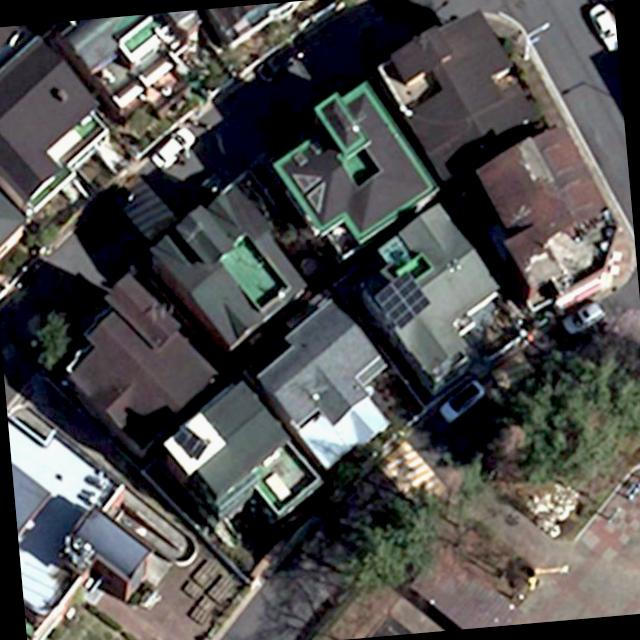solar: (372, 269, 434, 334)
